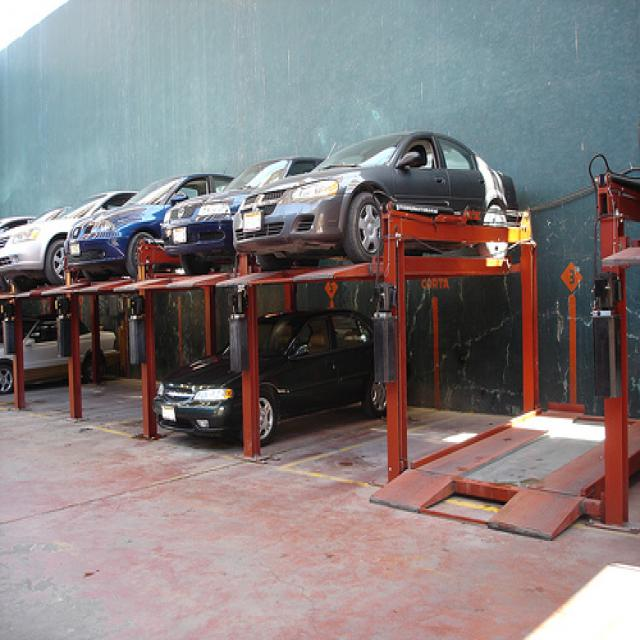Car: (234, 130, 526, 264)
